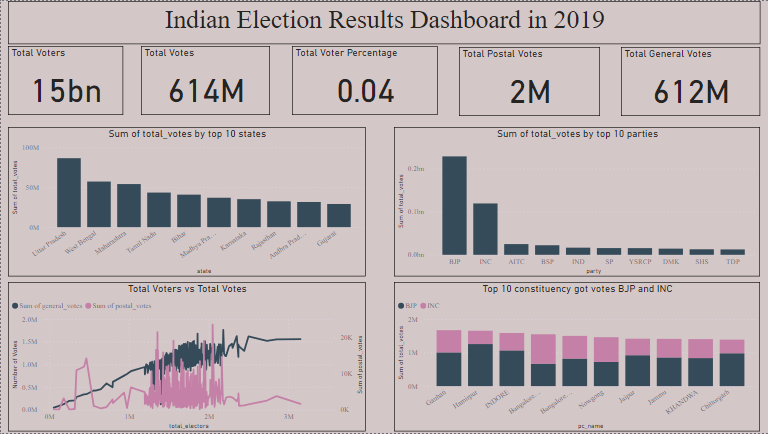

The page's visual inventory and layout, read from the dashboard file:
{"tool":"powerbi","page":{"name":"Page 2","canvas":[1280,720],"ordinal":1},"visuals":[{"type":"card","title":"Total Voters","fields":{"Values":["Sum(constituency_wise_results_2019.total_electors)"]},"box":[11.7,75,191.7,115],"z":0},{"type":"card","title":"Total Votes ","fields":{"Values":["Sum(constituency_wise_results_2019.total_votes)"]},"box":[233.3,75,215,115],"z":1000},{"type":"card","title":"Total Voter Percentage","fields":{"Values":["Avg(constituency_wise_results_2019.voter_turnout_pct)"]},"box":[485,75,243.3,115],"z":2000},{"type":"card","title":"Total Postal Votes","fields":{"Values":["Sum(constituency_wise_results_2019.postal_votes)"]},"box":[763.3,76.7,235,115],"z":3000},{"type":"card","title":"Total General Votes","fields":{"Values":["Sum(constituency_wise_results_2019.general_votes)"]},"box":[1033.3,76.7,231.7,115],"z":4000},{"type":"textbox","box":[11,0,1254,72],"z":5000},{"type":"columnChart","title":"Sum of total_votes by top 10 states","fields":{"Y":["Sum(constituency_wise_results_2019.total_votes)"],"Category":["constituency_wise_results_2019.state"]},"box":[11,210,596,249],"z":6000},{"type":"columnChart","title":"Sum of total_votes by top 10 parties","fields":{"Y":["Sum(constituency_wise_results_2019.total_votes)"],"Category":["constituency_wise_results_2019.party"]},"box":[655,210,610,249],"z":7000},{"type":"lineChart","title":"Total Voters vs Total Votes","fields":{"Category":["constituency_wise_results_2019.total_electors"],"Y":["Sum(constituency_wise_results_2019.general_votes)"],"Y2":["Sum(constituency_wise_results_2019.postal_votes)"]},"box":[11,469,596,249],"z":8000},{"type":"columnChart","title":"Top 10 constituency got votes BJP and INC ","fields":{"Category":["constituency_wise_results_2019.pc_name"],"Y":["Sum(constituency_wise_results_2019.total_votes)"],"Series":["constituency_wise_results_2019.party"]},"box":[655.1,468.7,609.8,248.6],"z":9000}]}

Visuals, with their boxes in screenshot pixels (x1, y1, x2, y2), scaled from the page's 1280x720 canvas onto the 768x434 screenshot:
"Total Voters" card: bbox(7, 45, 122, 115)
"Total Votes " card: bbox(140, 45, 269, 115)
"Total Voter Percentage" card: bbox(291, 45, 437, 115)
"Total Postal Votes" card: bbox(458, 46, 599, 116)
"Total General Votes" card: bbox(620, 46, 759, 116)
textbox: bbox(7, 0, 759, 43)
"Sum of total_votes by top 10 states" columnChart: bbox(7, 127, 364, 277)
"Sum of total_votes by top 10 parties" columnChart: bbox(393, 127, 759, 277)
"Total Voters vs Total Votes" lineChart: bbox(7, 283, 364, 433)
"Top 10 constituency got votes BJP and INC " columnChart: bbox(393, 283, 759, 432)
